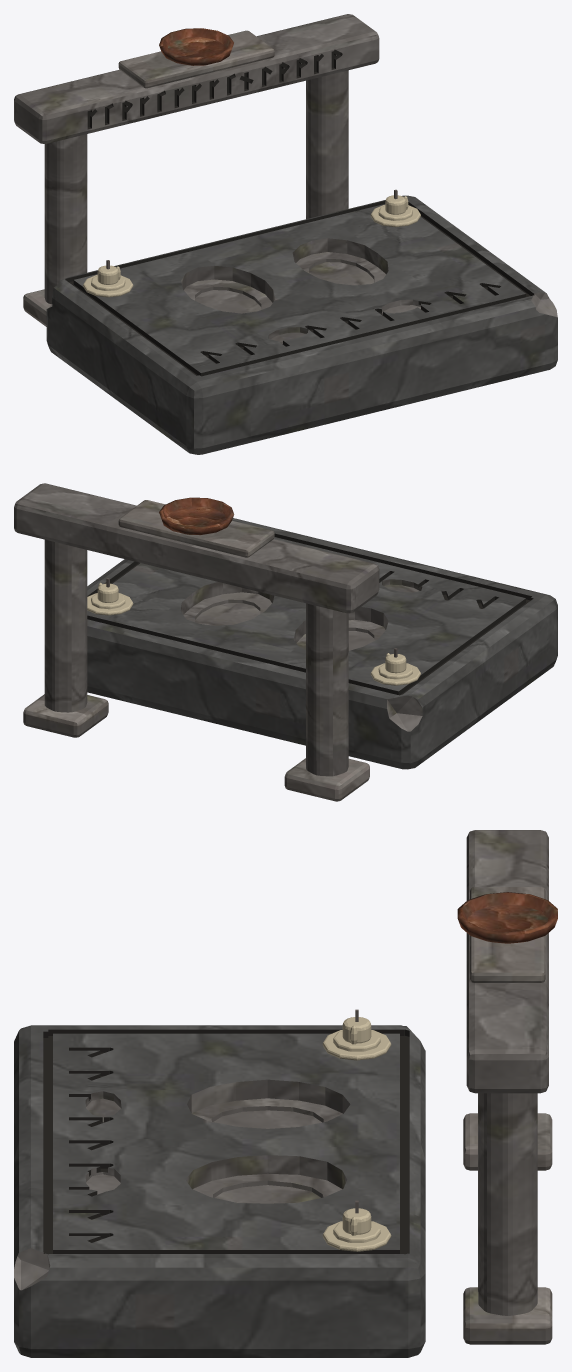
Rendered from vo_kneeling_stone.glb.
3 views of the same model, one above another, from view 1: azimuth 30°, elevation 25°; view 2: azimuth 150°, elevation 25°; view 3: azimuth 270°, elevation 25° (orthographic). The views are drawn at different scales.
Parts seen in each view (by area): view 1: model; view 2: model; view 3: model.
Boxes of the visible parts, bbox=[...] form: model: bbox=[14, 14, 557, 454]; model: bbox=[14, 483, 557, 801]; model: bbox=[14, 830, 557, 1357].
Bounding box in the file's own units: 0.85 × 0.529 × 0.7931.
7 materials, 4 textured.
